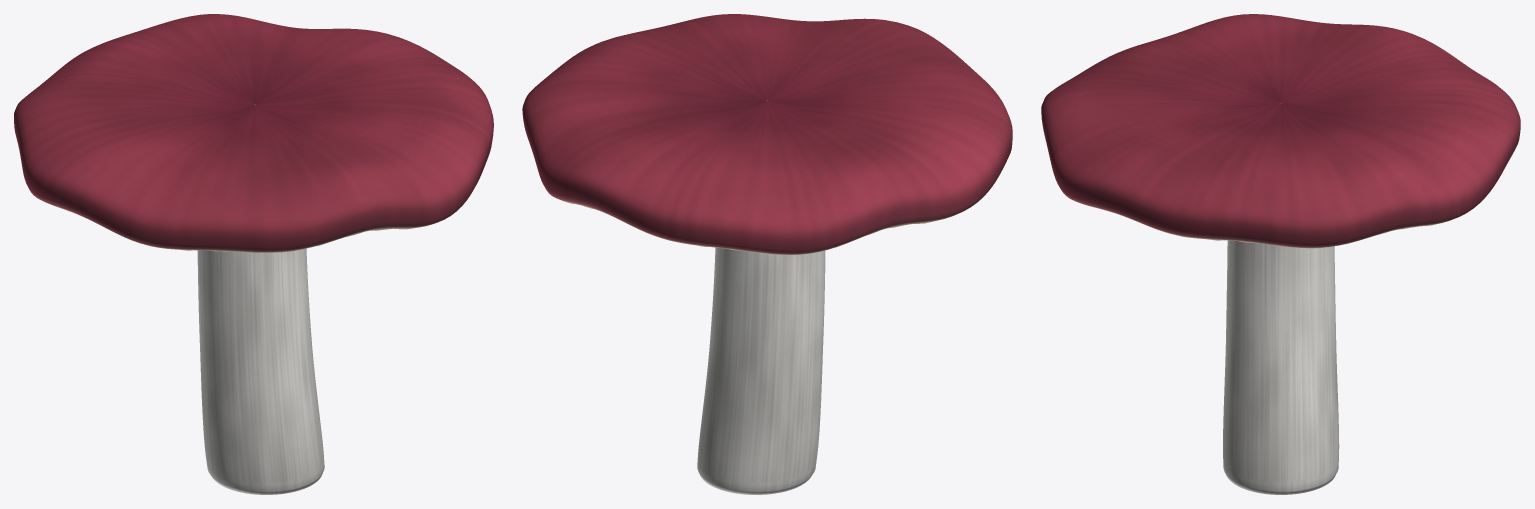
File: russula-vinosa-drawn.glb
3 views of the same model, side by side, from view 1: azimuth 30°, elevation 25°; view 2: azimuth 150°, elevation 25°; view 3: azimuth 270°, elevation 25° (orthographic). The views are drawn at different scales.
Size of the model in its own units: 0.8363 by 0.711 by 0.8276.
Materials: 1 (1 with a texture image).
